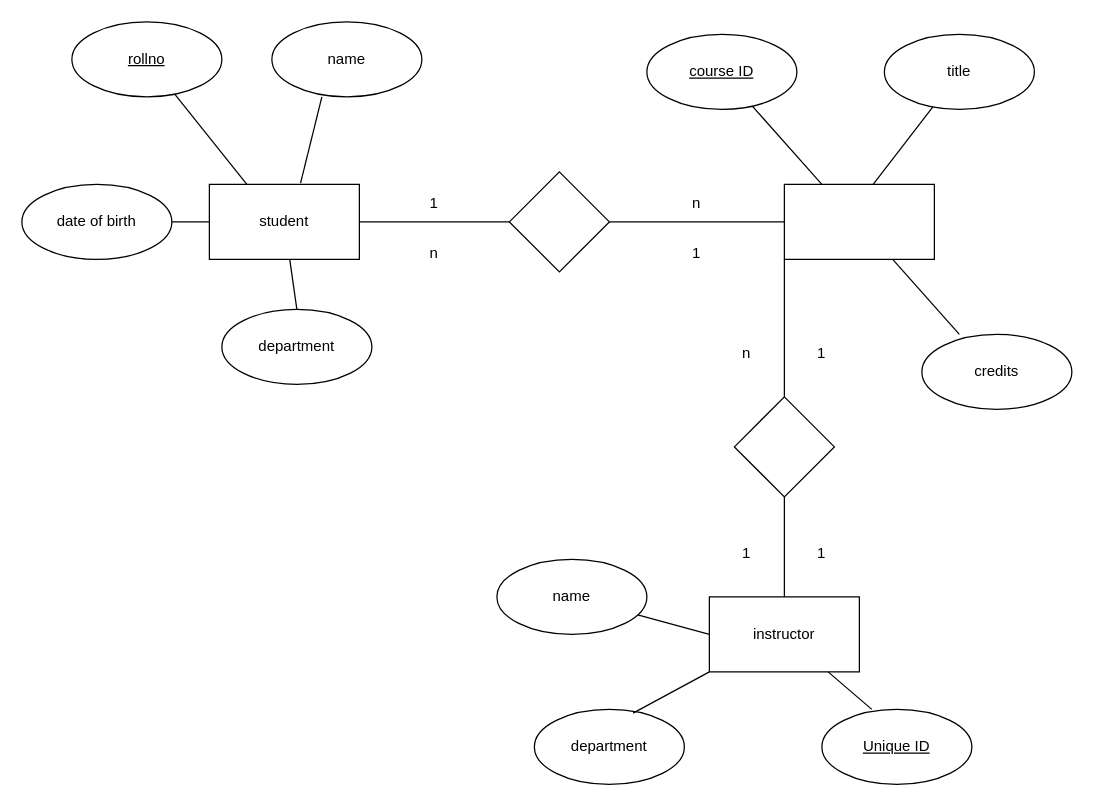
This 1094x806 diagram has some shape labels left out. The box of each missing label's shape, as (x1, y1, x2, y2) in pixels:
courses: (783, 183, 934, 259)
enroll: (508, 171, 609, 272)
teaches: (733, 396, 834, 497)
